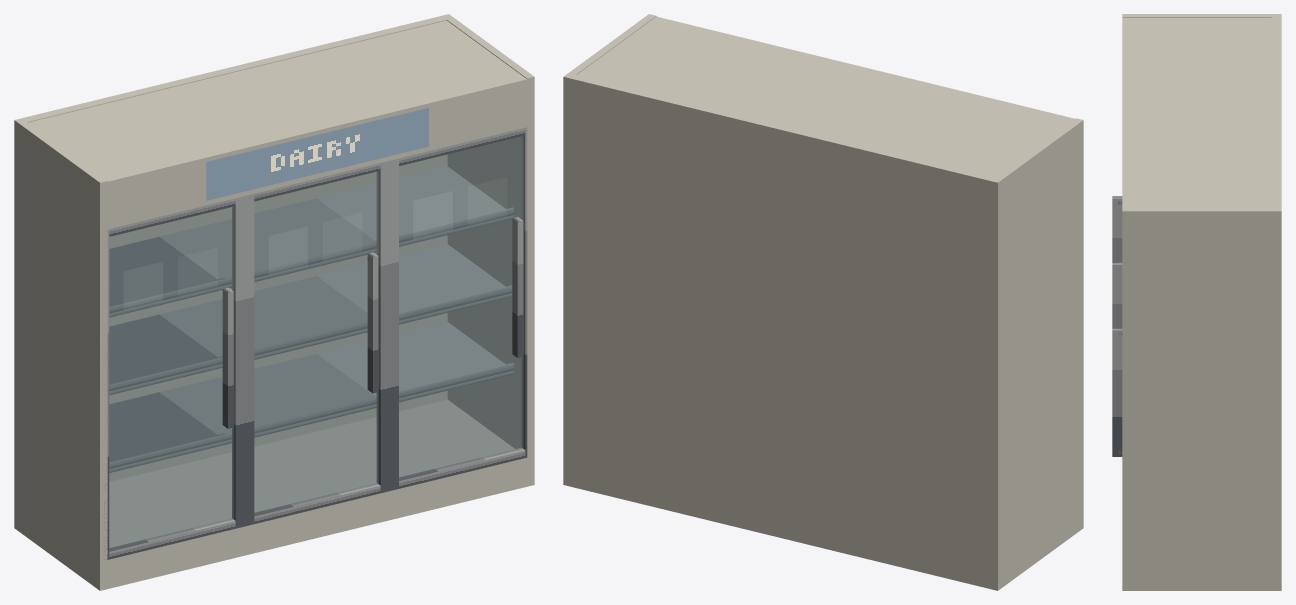
Rendered from COM_Cooler_Beverage.glb.
3 renders of one model, left to right at view 1: azimuth 30°, elevation 25°; view 2: azimuth 150°, elevation 25°; view 3: azimuth 270°, elevation 25°, orthographic. The views are drawn at different scales.
Parts seen in each view (by area): view 1: COM_Cooler_Beverage_Mesh, INT_CoolerDoor_2, INT_CoolerDoor_1, INT_CoolerDoor_3; view 2: COM_Cooler_Beverage_Mesh; view 3: COM_Cooler_Beverage_Mesh, INT_CoolerDoor_3, INT_CoolerDoor_1, INT_CoolerDoor_2.
Part boxes in pixels (left/top/right/bottom): COM_Cooler_Beverage_Mesh: left=14, top=14, right=534, bottom=590; INT_CoolerDoor_2: left=248, top=161, right=385, bottom=525; INT_CoolerDoor_1: left=103, top=197, right=241, bottom=559; INT_CoolerDoor_3: left=393, top=127, right=527, bottom=489; COM_Cooler_Beverage_Mesh: left=563, top=14, right=1083, bottom=590; COM_Cooler_Beverage_Mesh: left=1122, top=14, right=1281, bottom=590; INT_CoolerDoor_3: left=1112, top=327, right=1122, bottom=456; INT_CoolerDoor_1: left=1112, top=196, right=1122, bottom=261; INT_CoolerDoor_2: left=1112, top=262, right=1122, bottom=327.
Size of what is drawn, in the model's own units: 2.34 by 2.1 by 0.85.
Materials: 3 (3 with a texture image).
